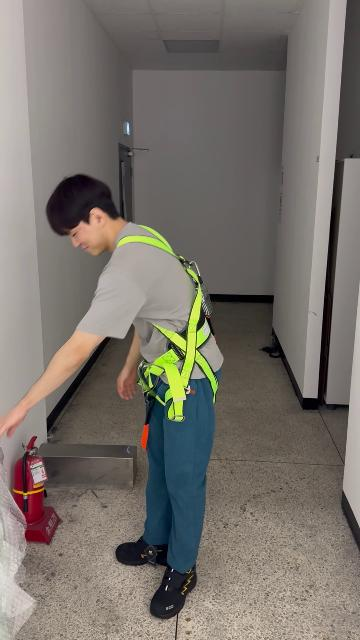helmet_not_worn: (44, 173, 120, 241)
shoe_worn: (149, 562, 196, 618), (115, 536, 167, 566)
vest_worn: (114, 232, 219, 409)
